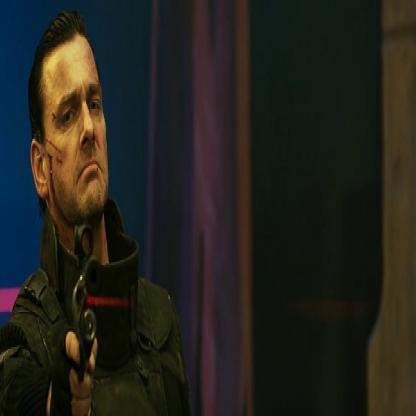Gun: (68, 220, 101, 414)
